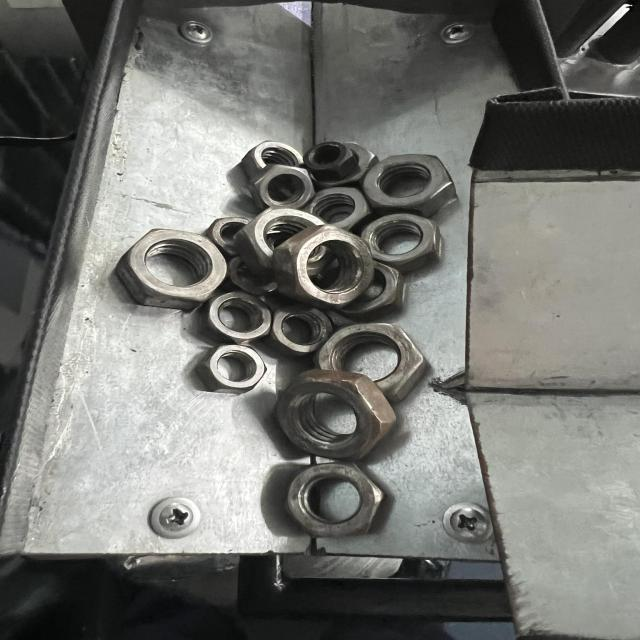nut: (272, 369, 398, 462), (115, 228, 227, 312), (274, 224, 373, 308), (286, 462, 382, 538), (198, 342, 264, 397)
